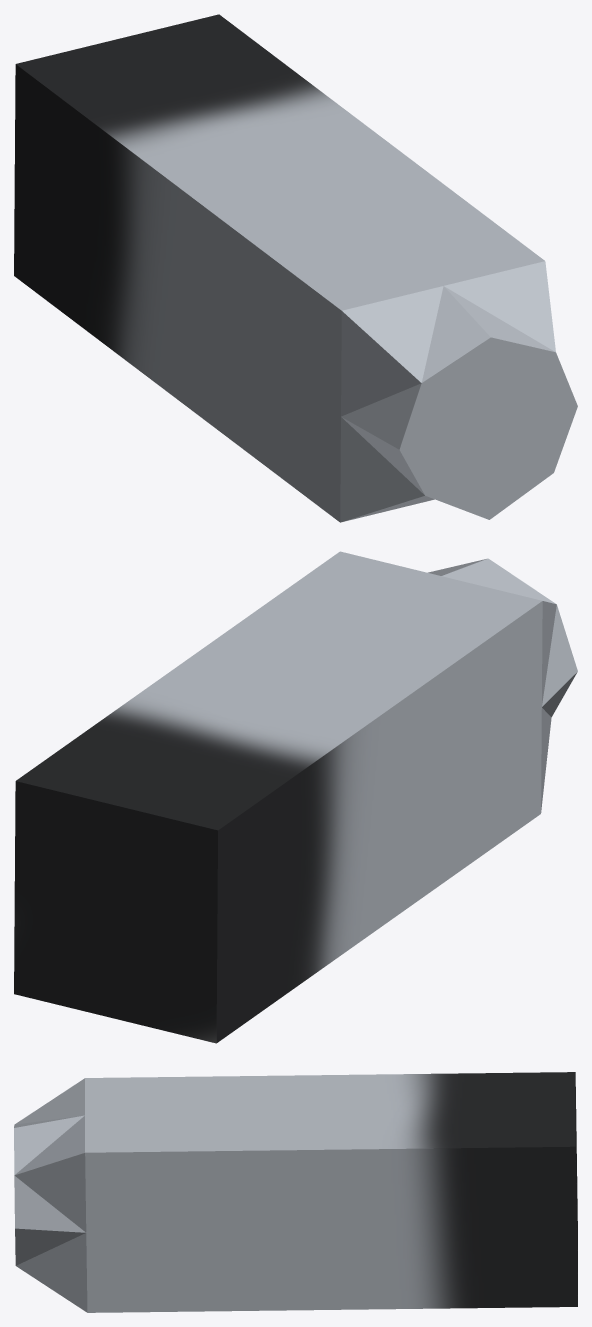
File: PlayerBullet.obj
The picture shows the model from 3 angles, top to bottom: view 1: azimuth 30°, elevation 25°; view 2: azimuth 150°, elevation 25°; view 3: azimuth 270°, elevation 25°; orthographic projection. The views are drawn at different scales.
Parts seen in each view (by area): view 1: Cube; view 2: Cube; view 3: Cube.
Part boxes in pixels (x1,y1,x2,y2): Cube: (14,14,577,522); Cube: (14,551,577,1043); Cube: (14,1072,577,1312).
Bounding box in the file's own units: 2 × 2.07 × 6.38.
Materials: 1 (1 with a texture image).
